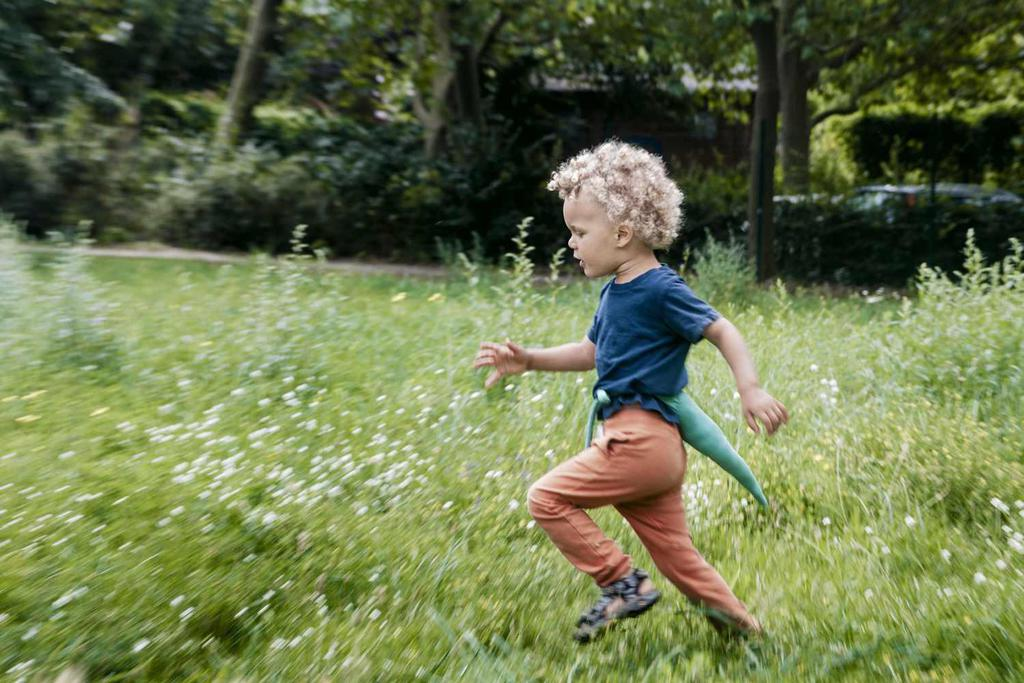child: (459, 127, 830, 663)
